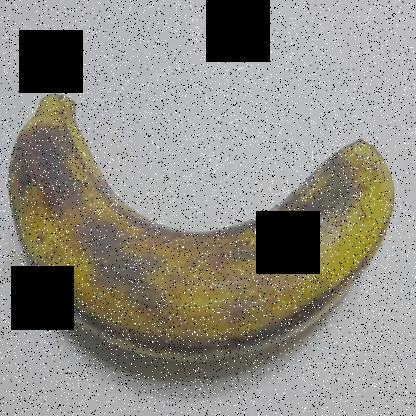overripe: (5, 77, 401, 377)
